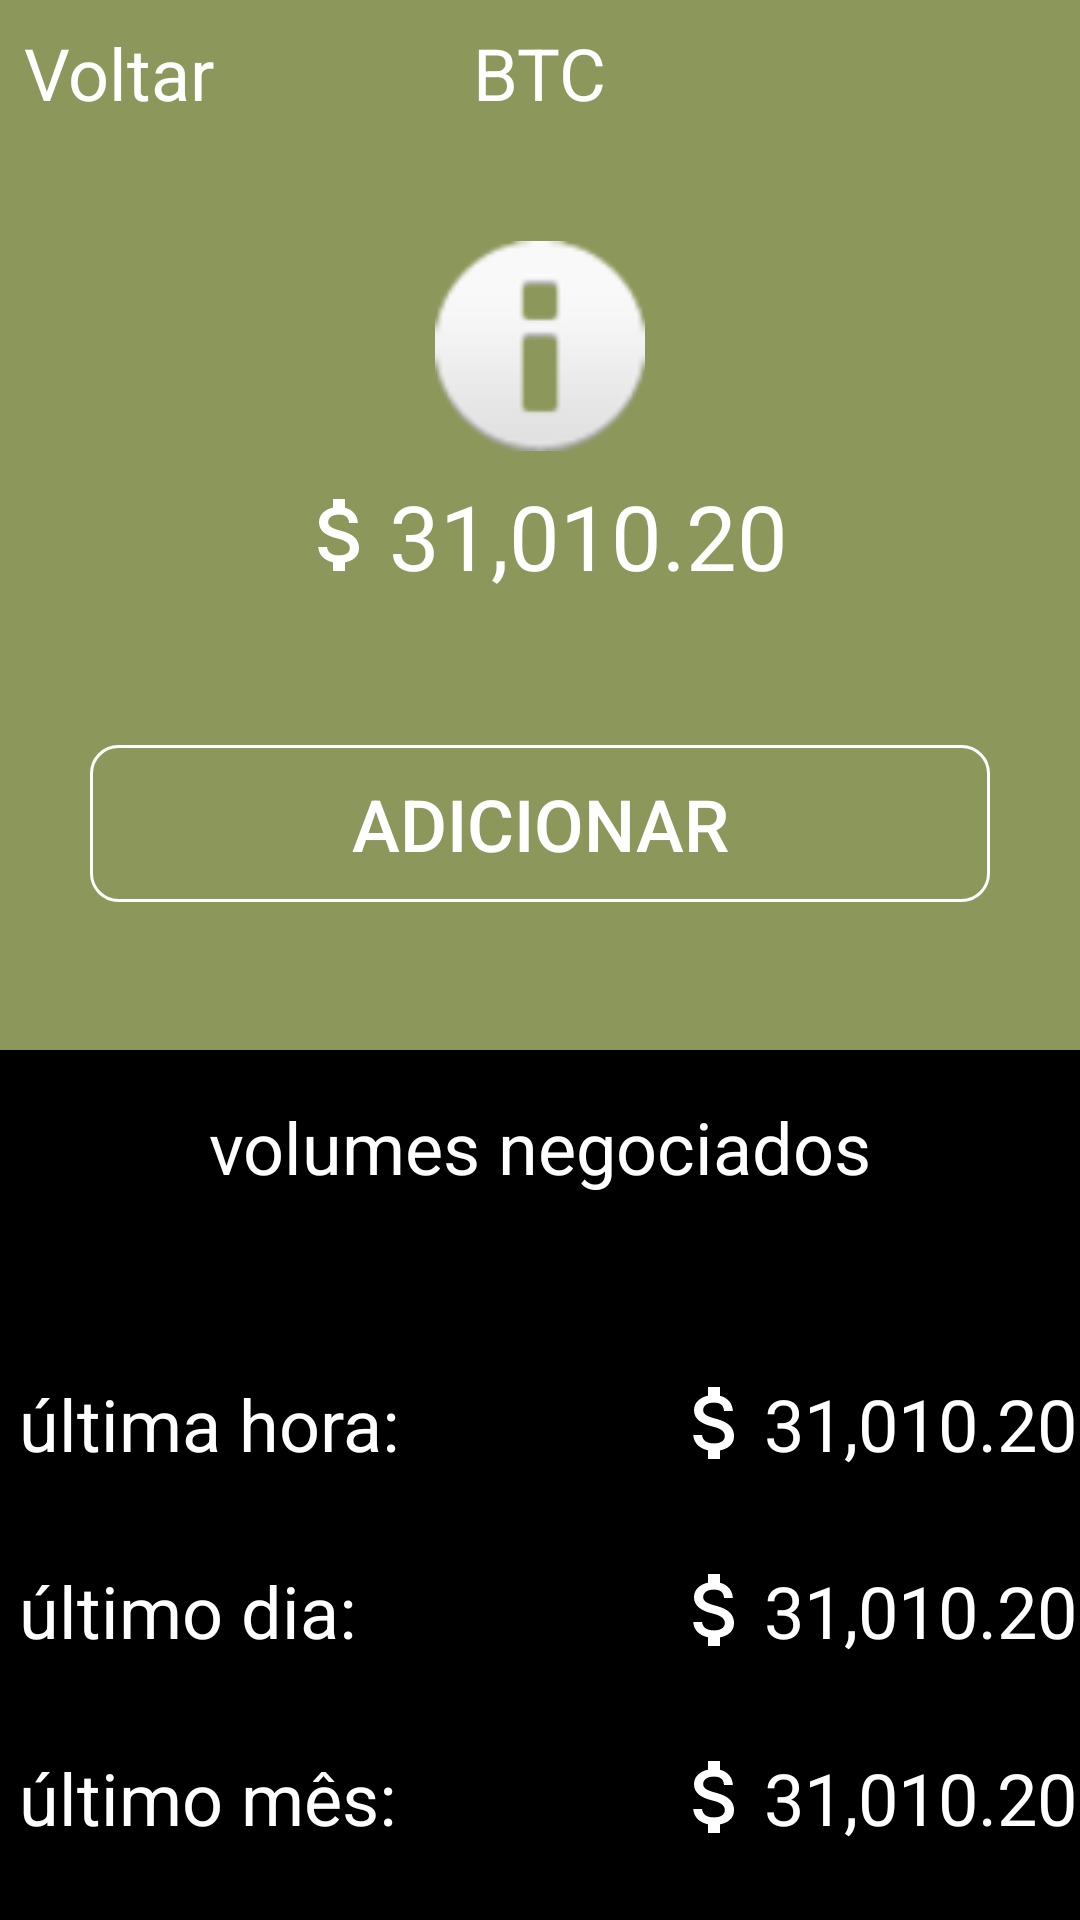

Screen size 1080 × 1920. Icon name, then its center in pixels as (x,y):
info: (540,346)
